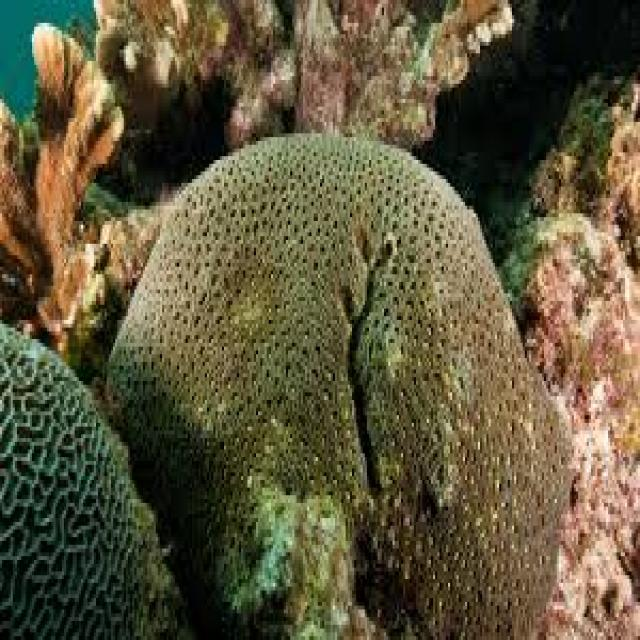Coral: (106, 133, 565, 640), (0, 316, 185, 640), (0, 19, 125, 363)
